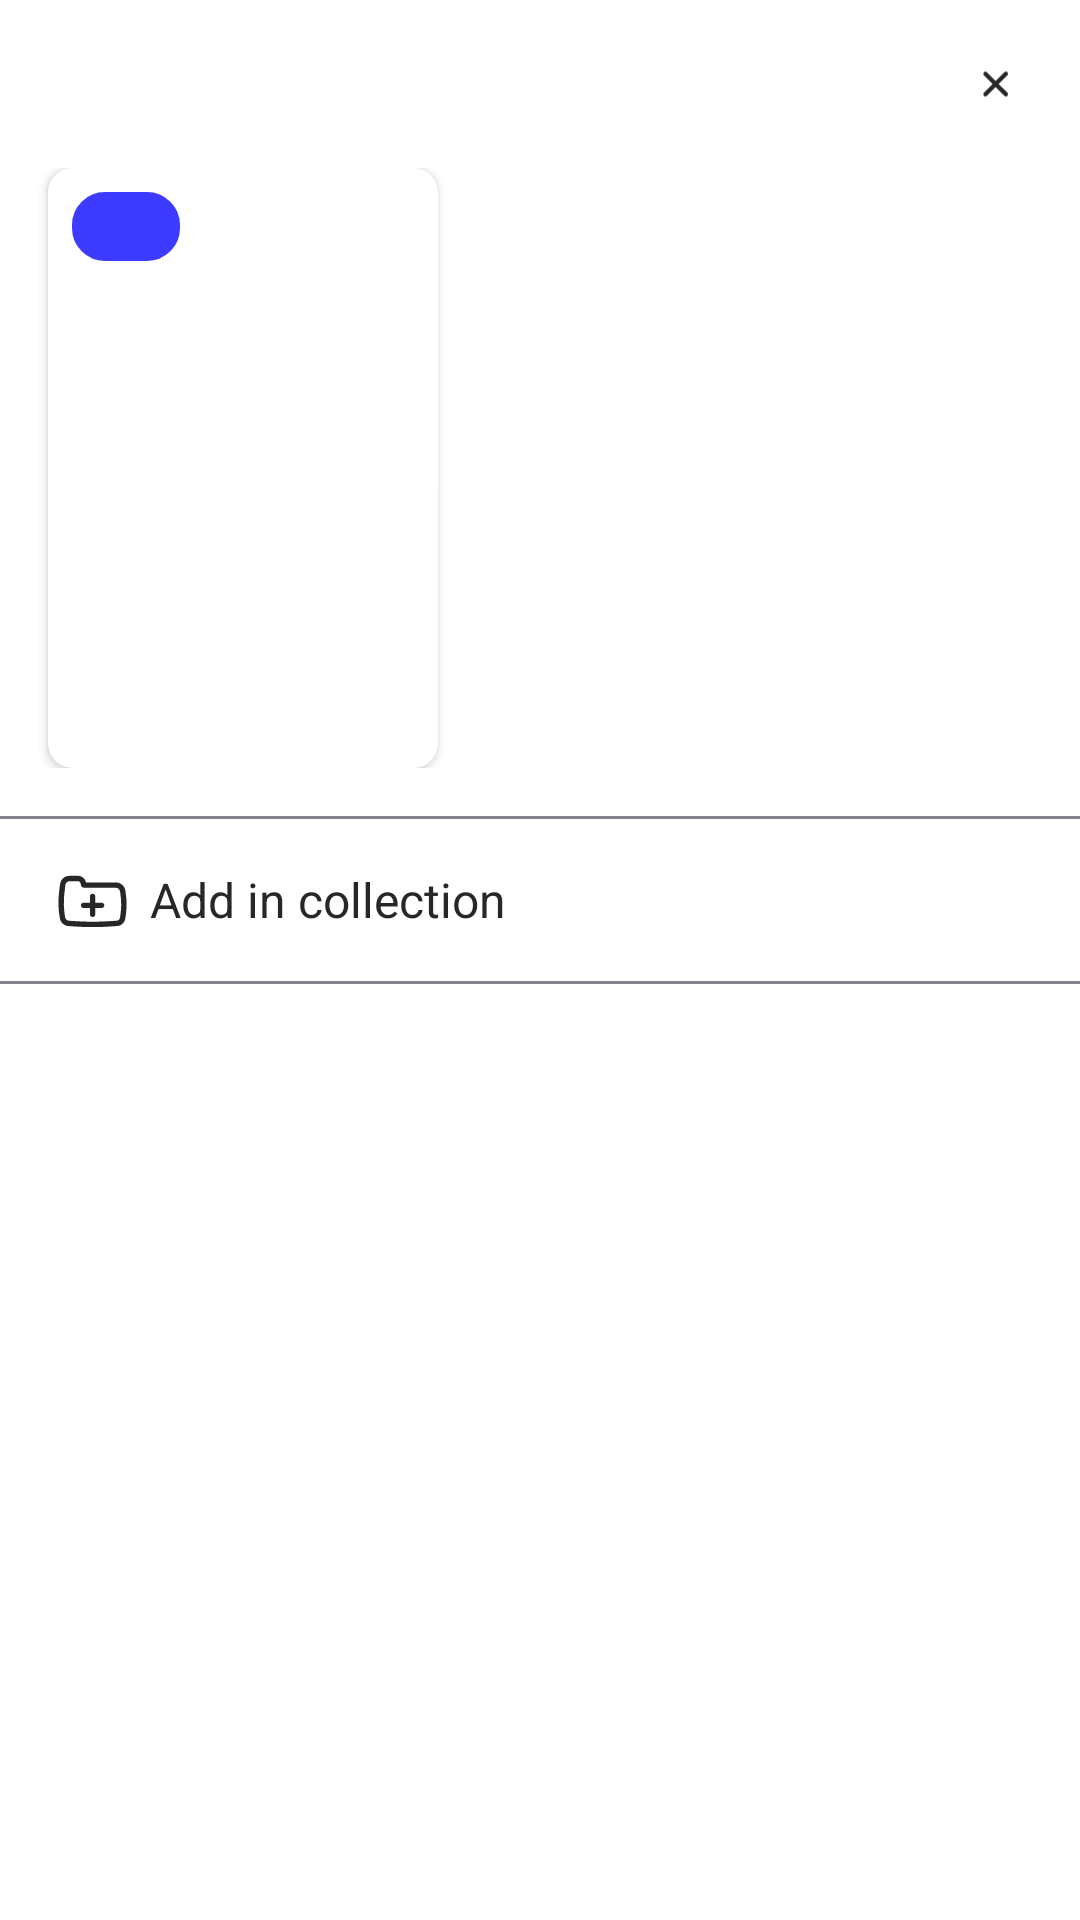

Icons on this 1080 × 1920 Android screen, each with the point to tap as (x=x, y=y):
close for profile: (x=995, y=84)
create for profile: (x=92, y=901)
